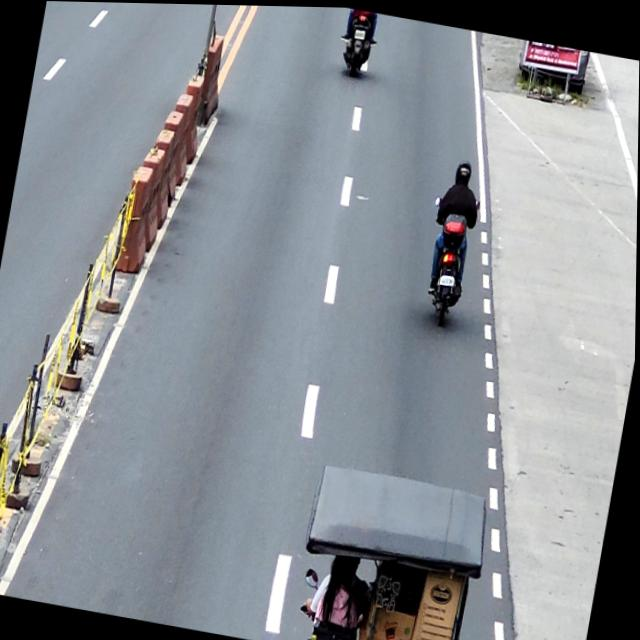License-Plate: (440, 271, 456, 287), (355, 28, 366, 39)
Motorcycle: (416, 189, 481, 327), (340, 7, 377, 82)
Tricycle: (292, 458, 493, 640)
